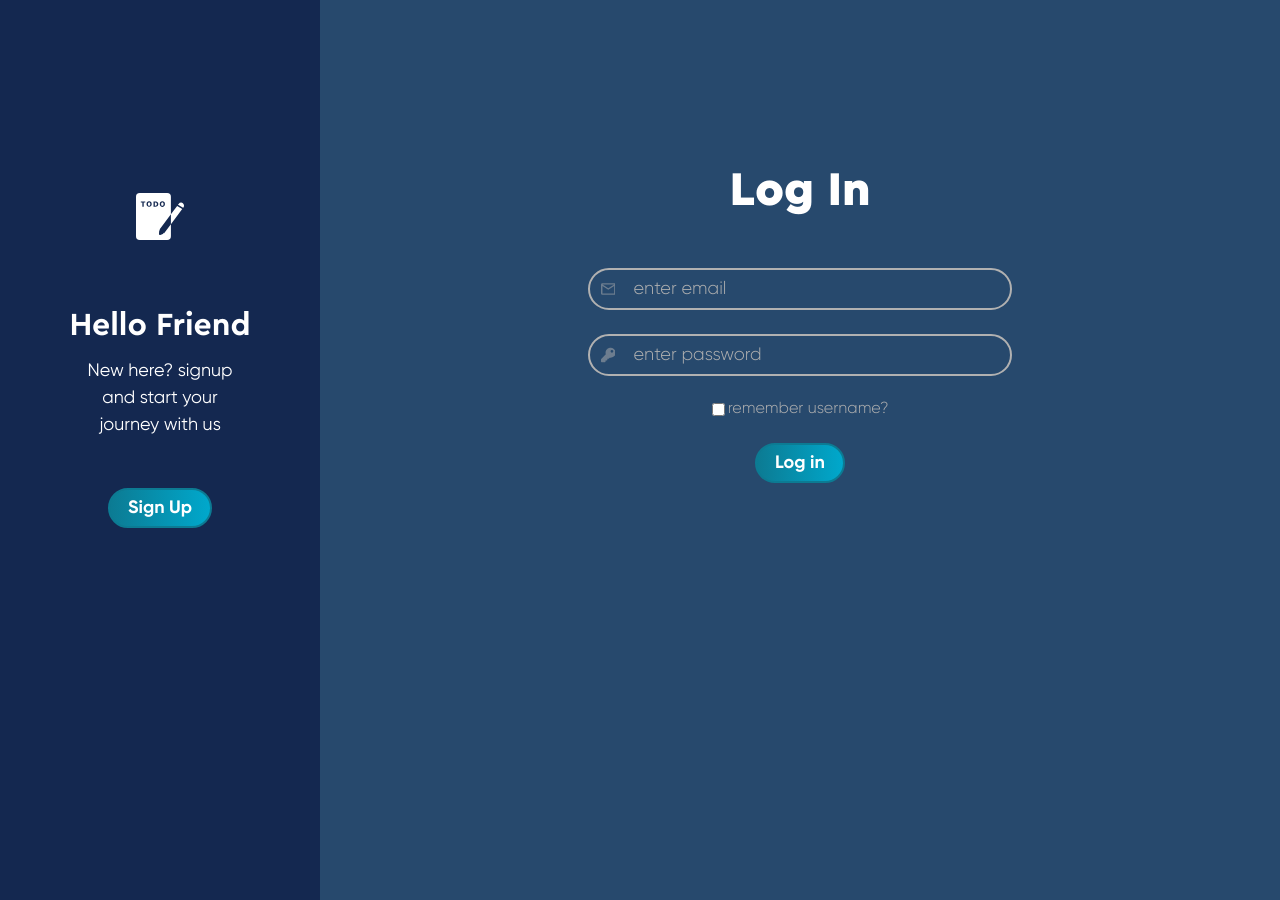
it: Login Page - Form intergration › Test that errors display when you try to log in no inputs
What coordinates should you click on to do the following:
click the button "Log in"
I would click on:
 (800, 463)
Its box is [755, 443, 845, 483].
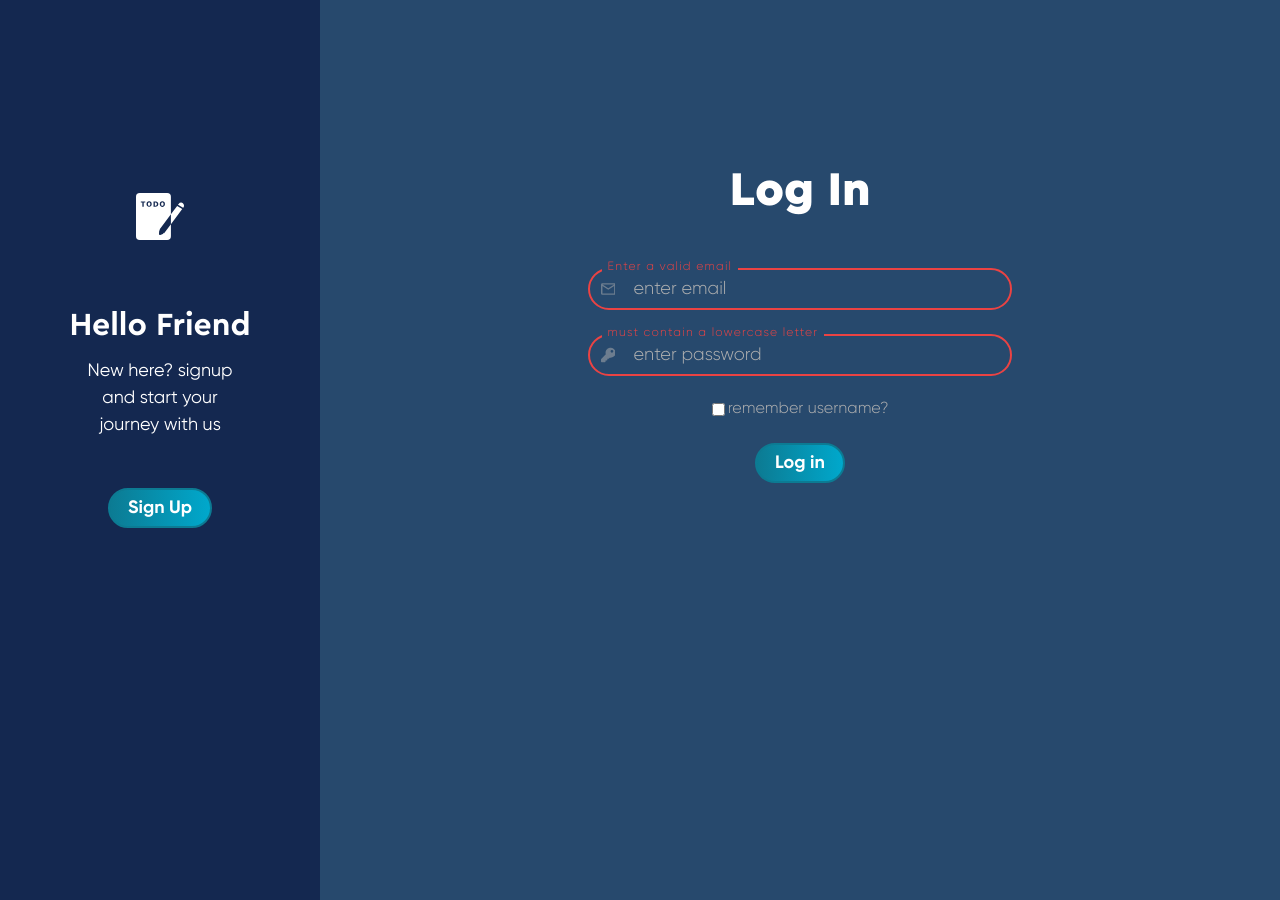
Expected: the heading "must contain a lowercase letter" is shown, [602, 324, 824, 343]
Now the heading "Enter a valid email" is shown, box [602, 258, 738, 277]
